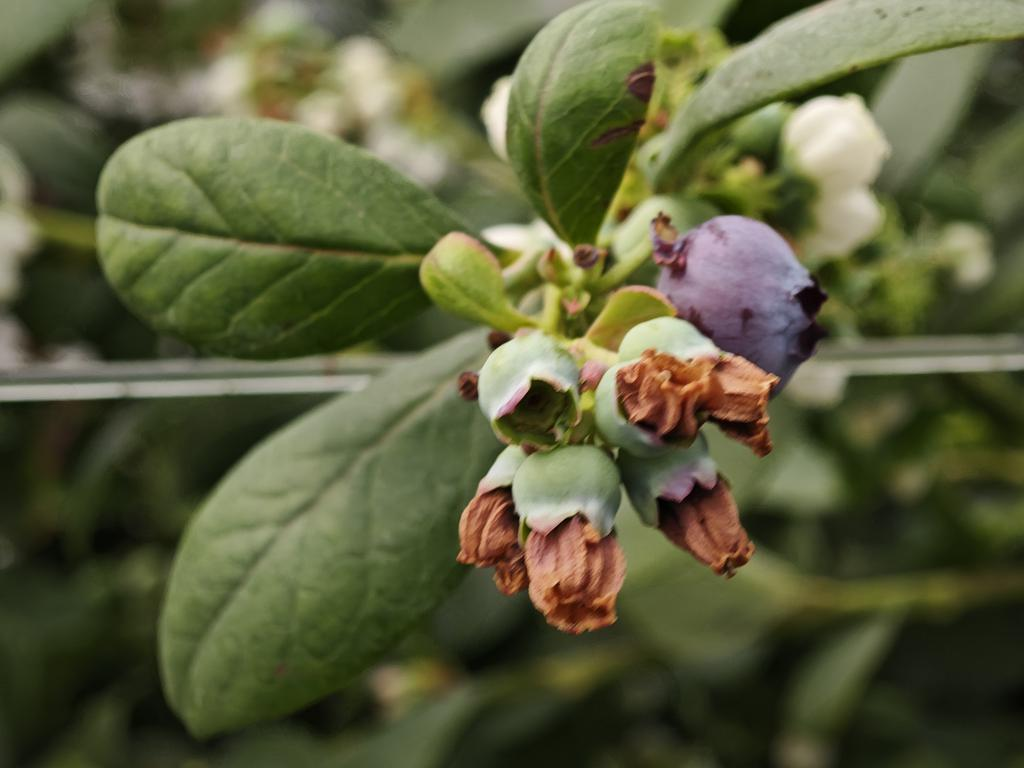Semi-RipeBlueBerry: (665, 213, 819, 396)
